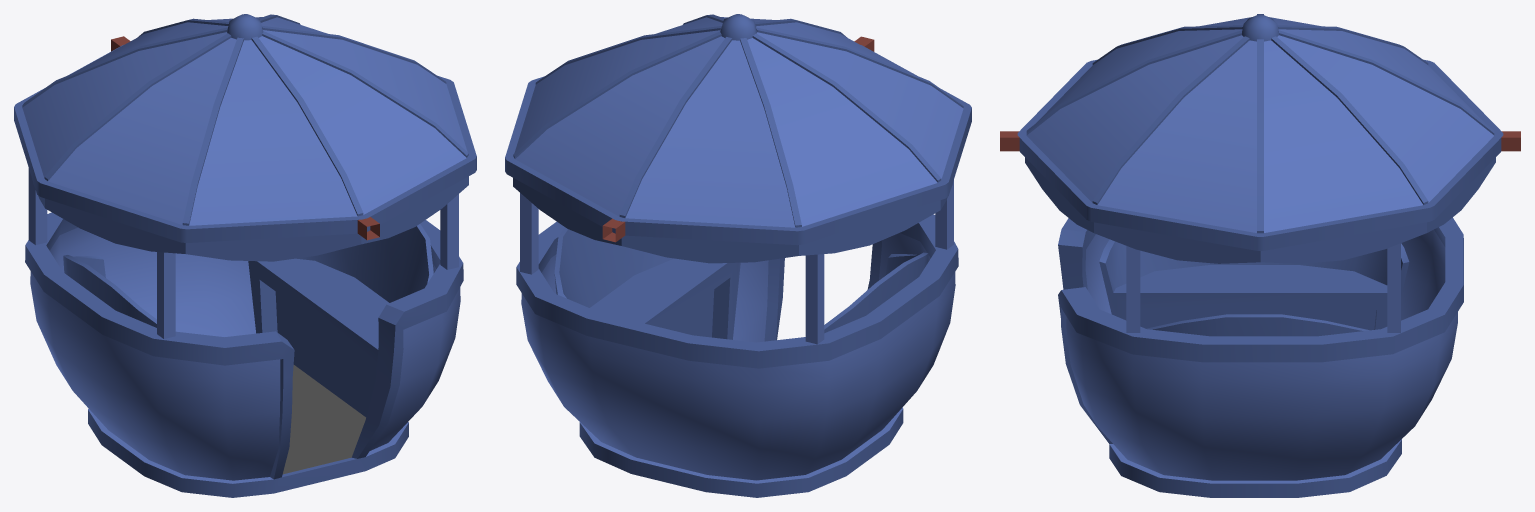
The model's file is SM_Props_Park_02_Cabin_04.fbx.
The picture shows the model from 3 angles, left to right: view 1: azimuth 30°, elevation 25°; view 2: azimuth 150°, elevation 25°; view 3: azimuth 270°, elevation 25°; orthographic projection.
Parts seen in each view (by area): view 1: SM_Props_Park_02_Cabin_04; view 2: SM_Props_Park_02_Cabin_04; view 3: SM_Props_Park_02_Cabin_04.
Boxes of the visible parts, <box> form: SM_Props_Park_02_Cabin_04: <box>14,14,476,497</box>; SM_Props_Park_02_Cabin_04: <box>505,14,971,497</box>; SM_Props_Park_02_Cabin_04: <box>1000,14,1520,497</box>.
Size of the model in its own units: 3.17 by 3.02 by 3.4.
